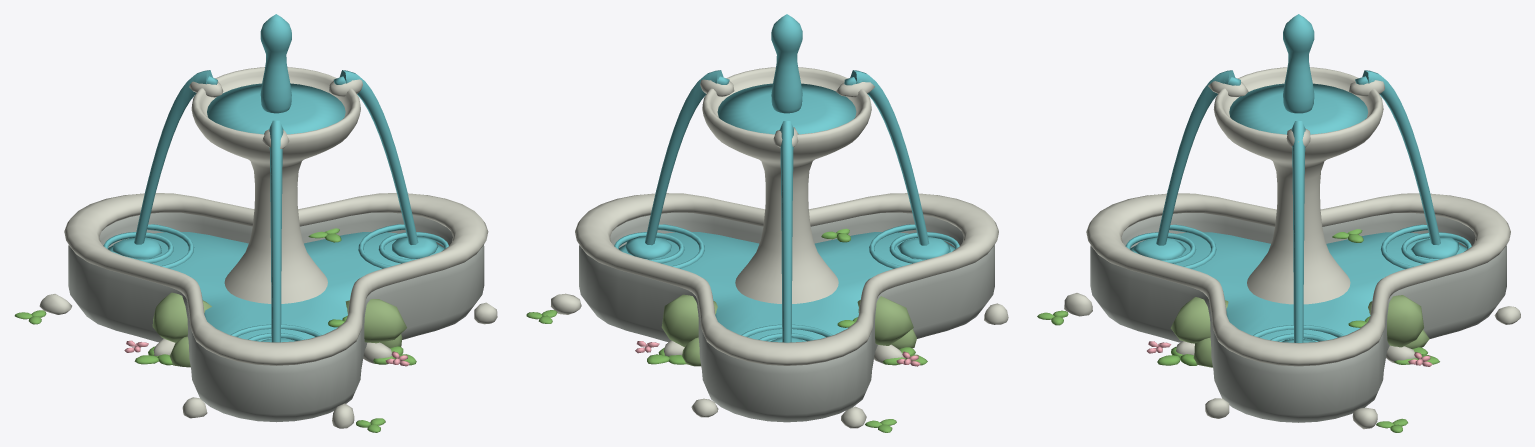
The model's file is decor-clover-fountain.glb.
3 views of the same model, side by side, from view 1: azimuth 30°, elevation 25°; view 2: azimuth 150°, elevation 25°; view 3: azimuth 270°, elevation 25° (orthographic).
Parts seen in each view (by area): view 1: clover-fountain-lightstone, clover-fountain-water, clover-fountain-stone, clover-fountain-moss, clover-fountain-leaf; view 2: clover-fountain-lightstone, clover-fountain-water, clover-fountain-stone, clover-fountain-moss, clover-fountain-leaf; view 3: clover-fountain-lightstone, clover-fountain-water, clover-fountain-stone, clover-fountain-moss, clover-fountain-leaf.
Part boxes in pixels (left/top/right/bottom): clover-fountain-lightstone: left=39, top=67, right=497, bottom=428; clover-fountain-water: left=103, top=14, right=448, bottom=342; clover-fountain-stone: left=68, top=212, right=484, bottom=422; clover-fountain-moss: left=152, top=292, right=406, bottom=367; clover-fountain-leaf: left=14, top=228, right=416, bottom=432; clover-fountain-lightstone: left=551, top=67, right=1008, bottom=428; clover-fountain-water: left=614, top=14, right=959, bottom=342; clover-fountain-stone: left=579, top=212, right=994, bottom=422; clover-fountain-moss: left=661, top=294, right=916, bottom=366; clover-fountain-leaf: left=526, top=228, right=927, bottom=432; clover-fountain-lightstone: left=1064, top=67, right=1520, bottom=429; clover-fountain-water: left=1125, top=14, right=1471, bottom=342; clover-fountain-stone: left=1090, top=213, right=1506, bottom=422; clover-fountain-moss: left=1170, top=295, right=1429, bottom=367; clover-fountain-leaf: left=1037, top=229, right=1439, bottom=432.
Size of the model in its own units: 3.58 by 2.8 by 3.82.
